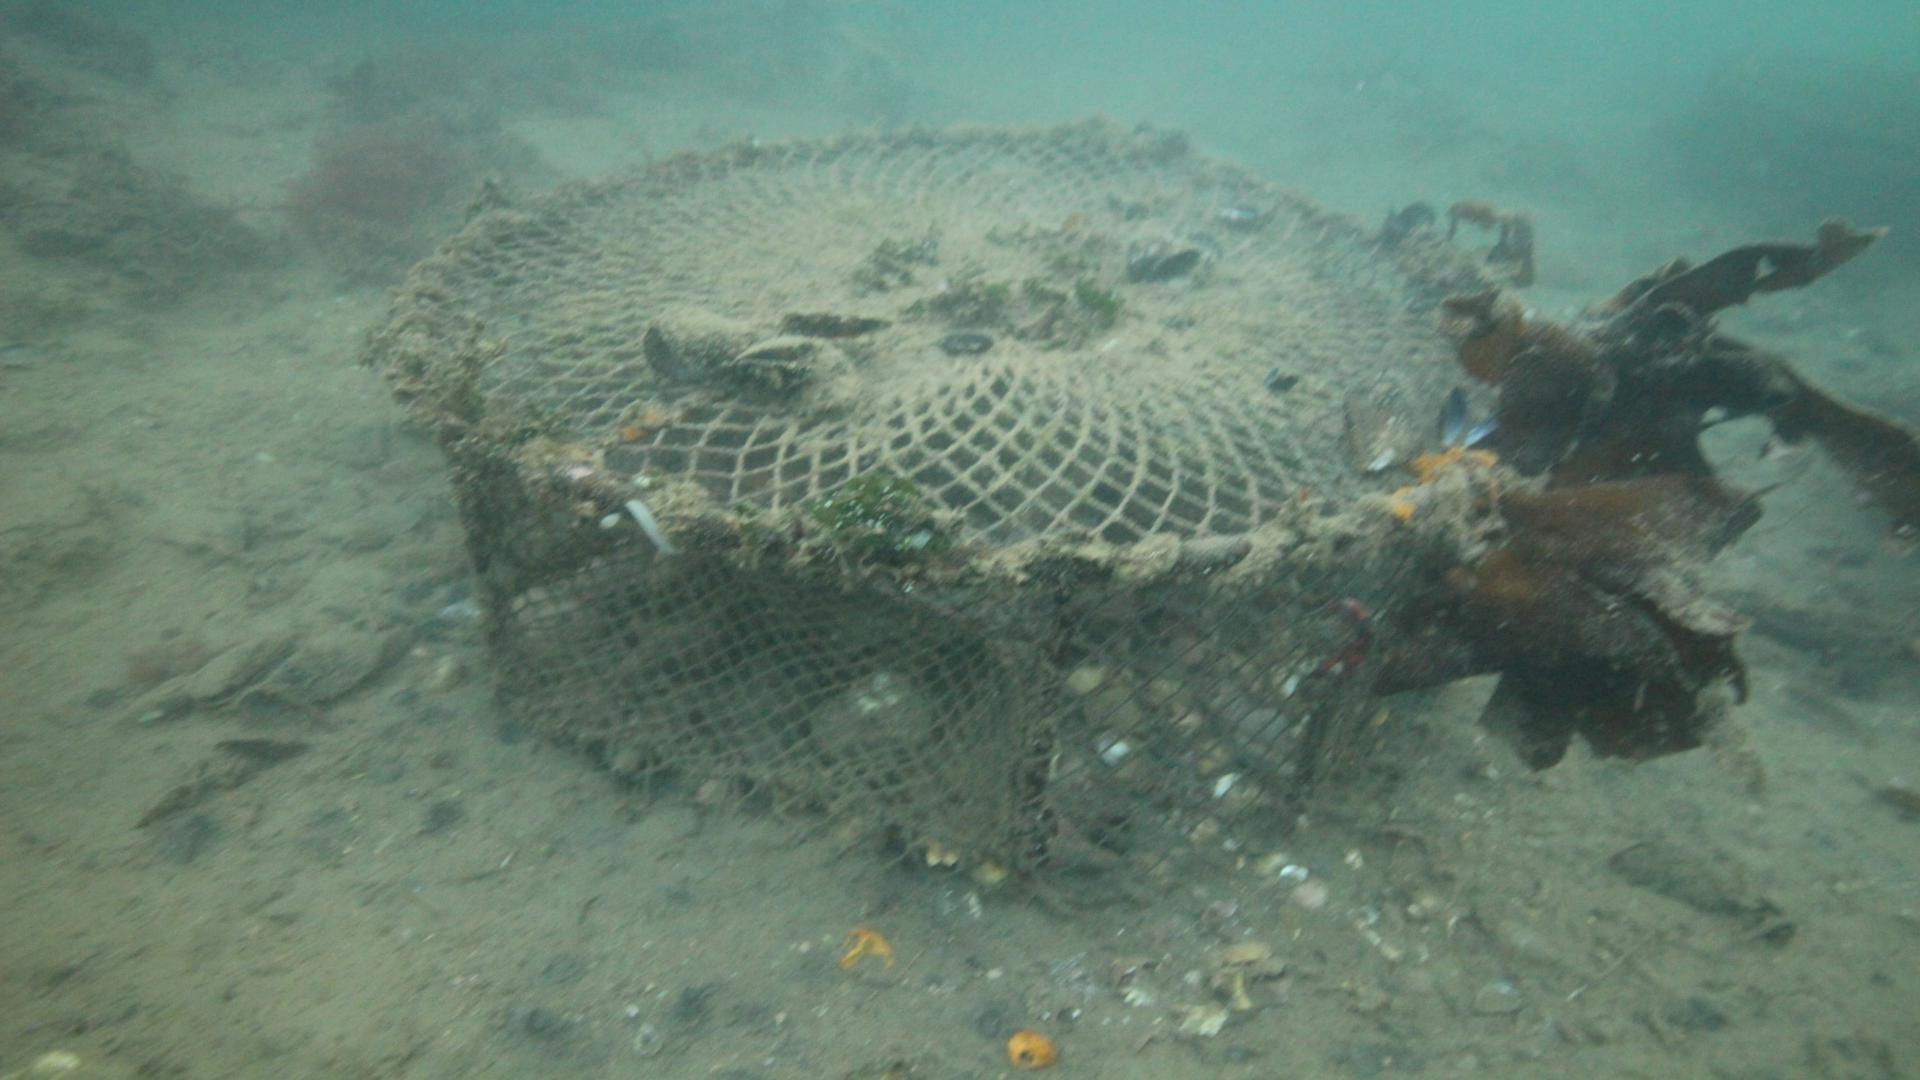circular fish trap: (384, 107, 1553, 913)
